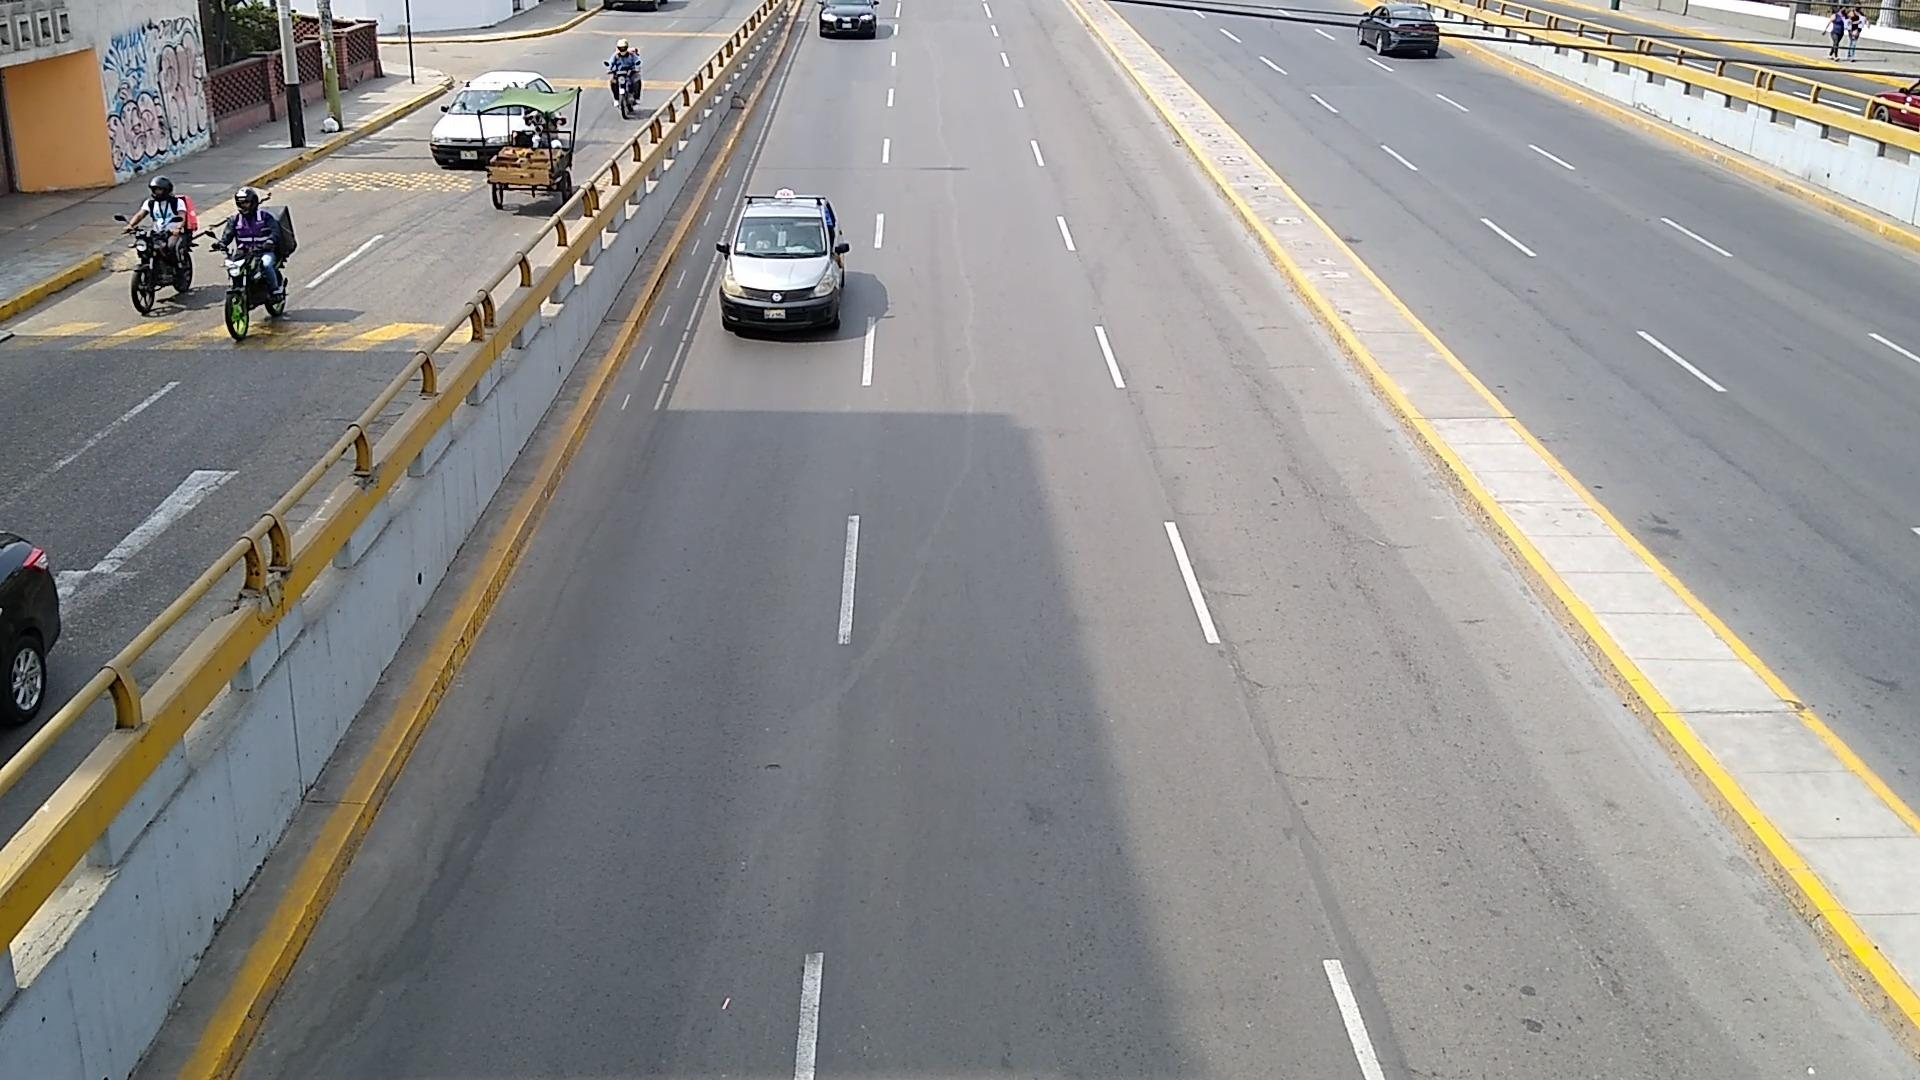car: (716, 191, 852, 328), (431, 71, 551, 169), (1357, 0, 1440, 54), (818, 0, 877, 37)
motorcycle: (222, 236, 285, 342), (132, 228, 195, 315)
motorcyclist: (225, 187, 293, 310), (128, 177, 195, 244), (608, 37, 641, 116)
road-vendor: (480, 90, 582, 206)
